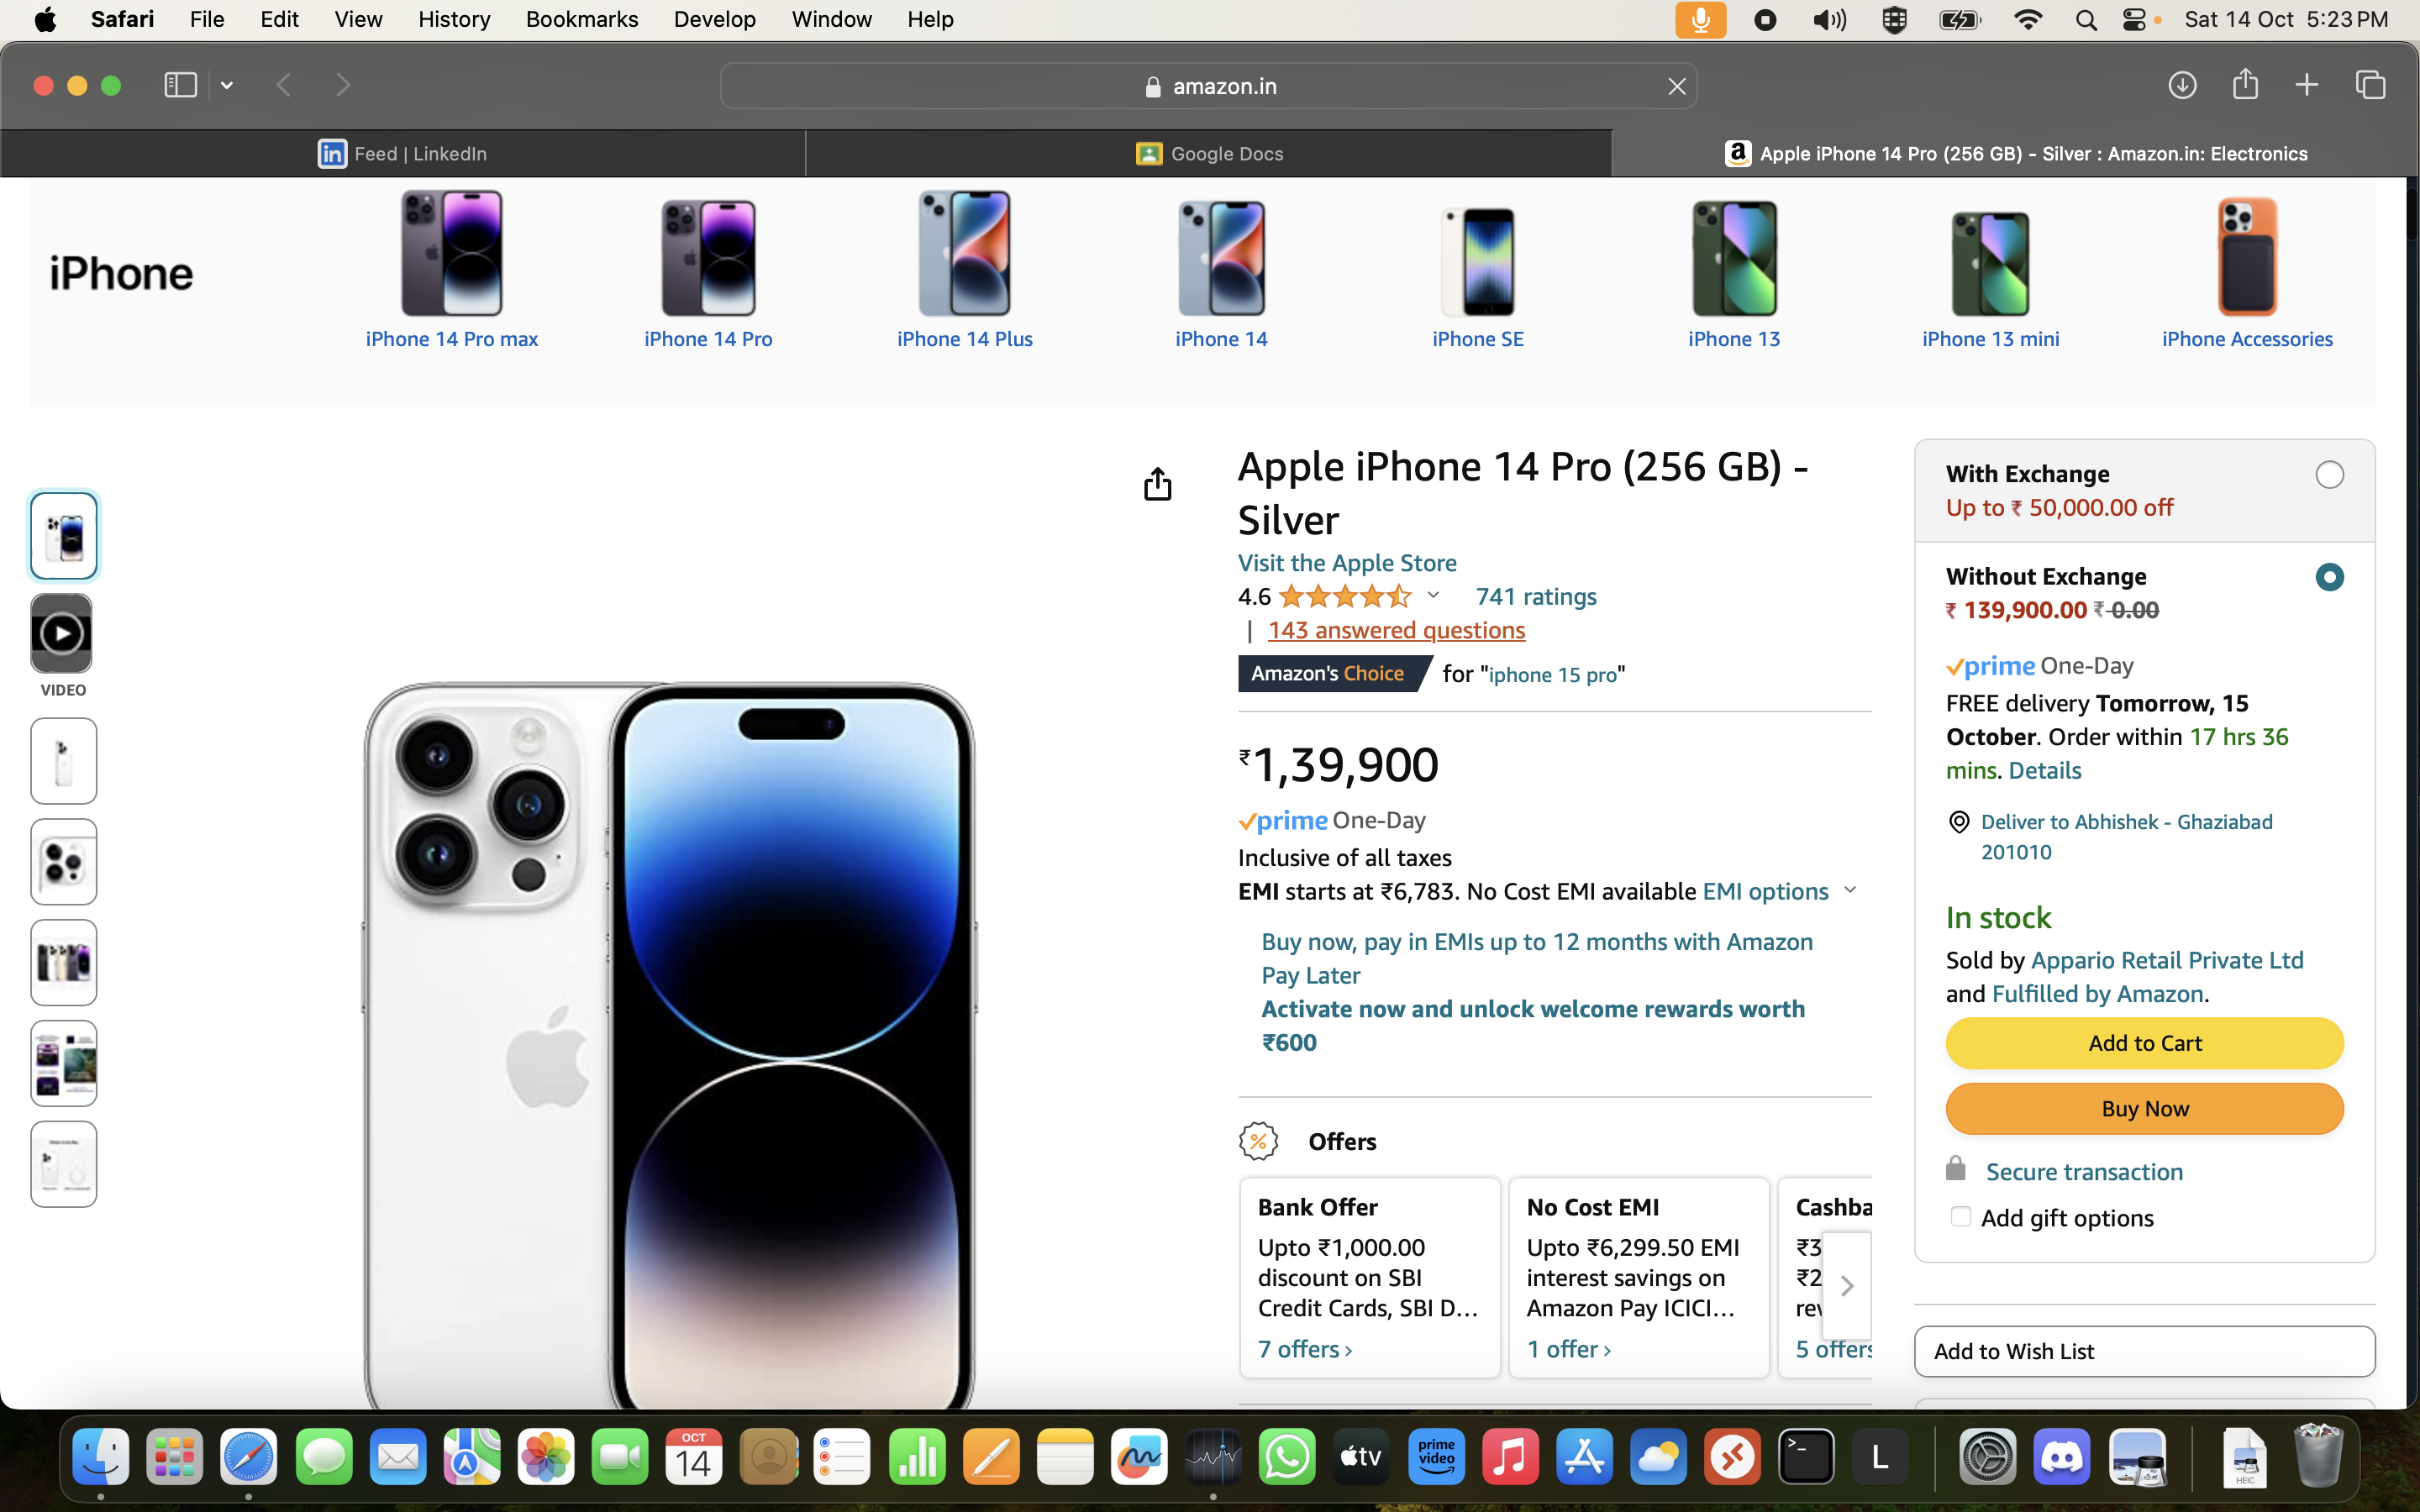Image: (341, 667, 1000, 1425), (395, 193, 512, 322), (655, 190, 765, 322), (1681, 190, 1784, 326), (1429, 193, 1528, 326), (915, 190, 1016, 314), (1948, 197, 2040, 322), (1174, 200, 1268, 322), (2207, 193, 2293, 322), (1763, 1420, 1850, 1491), (26, 1029, 105, 1106), (883, 1411, 955, 1493), (957, 1418, 1024, 1496), (1850, 1416, 1915, 1496), (1024, 1423, 1098, 1493), (1706, 1423, 1775, 1496), (1403, 1423, 1477, 1491), (141, 1421, 211, 1493), (1545, 1423, 1617, 1493), (64, 1421, 132, 1495), (655, 1416, 723, 1489), (808, 1418, 876, 1491), (1328, 1420, 1397, 1489), (1624, 1425, 1692, 1496), (512, 1416, 580, 1486), (28, 930, 99, 996), (439, 1421, 510, 1486), (587, 1423, 653, 1491), (2216, 1421, 2274, 1498), (1253, 1421, 1321, 1486), (2033, 1432, 2098, 1498), (1474, 1425, 1540, 1488), (37, 1139, 105, 1200), (220, 1428, 287, 1489), (293, 1425, 361, 1486), (2293, 1425, 2354, 1491), (733, 1428, 801, 1488), (1178, 1423, 1246, 1482), (366, 1432, 436, 1489), (2110, 1421, 2167, 1491), (1279, 584, 1418, 611), (1960, 1425, 2021, 1488), (38, 836, 92, 904), (1110, 1425, 1166, 1488), (45, 510, 87, 571), (2225, 64, 2272, 111), (40, 613, 87, 658), (2350, 63, 2397, 108), (45, 733, 80, 793), (1678, 0, 1727, 42), (1141, 462, 1180, 507), (1936, 7, 1991, 37), (23, 3, 70, 37), (2159, 68, 2202, 103), (1876, 5, 1923, 37), (2009, 2, 2047, 40), (2295, 64, 2328, 108), (1814, 5, 1854, 37), (2070, 2, 2105, 37), (1751, 5, 1784, 40), (2119, 5, 2153, 35)
Paragraph: (1232, 441, 1826, 545), (1934, 653, 2303, 791), (1256, 988, 1821, 1063), (1249, 925, 1826, 988), (1939, 810, 2293, 869), (1249, 1232, 1483, 1320), (1937, 949, 2321, 1003), (1523, 1235, 1756, 1322), (1937, 456, 2181, 530), (1930, 559, 2171, 631), (1228, 878, 1843, 906), (1761, 145, 2326, 167), (1232, 739, 1439, 796), (1260, 617, 1538, 650), (1218, 840, 1474, 874), (1977, 1155, 2204, 1191), (1228, 547, 1476, 580), (1939, 880, 2072, 941), (40, 249, 209, 296), (1228, 801, 1436, 840), (1237, 653, 1420, 695), (1970, 1198, 2171, 1235), (2178, 0, 2397, 33), (1430, 658, 1636, 692), (359, 322, 545, 357), (2080, 1016, 2209, 1064), (1930, 1334, 2113, 1367), (1244, 1178, 1382, 1221), (1916, 322, 2070, 357), (2099, 1087, 2206, 1136), (2160, 326, 2338, 354), (636, 322, 782, 355), (355, 138, 502, 171), (1469, 582, 1603, 617), (1253, 1327, 1373, 1364), (901, 326, 1042, 355), (1171, 138, 1291, 171), (1528, 1191, 1685, 1216), (1530, 1326, 1615, 1369), (1296, 1120, 1387, 1155), (516, 7, 639, 31), (1423, 324, 1531, 352), (1171, 324, 1275, 352), (674, 7, 765, 35), (1687, 329, 1786, 354), (85, 10, 169, 37), (793, 7, 876, 31), (1220, 578, 1275, 613), (1173, 77, 1284, 94), (335, 3, 392, 37), (247, 9, 312, 33), (422, 10, 502, 30), (190, 9, 233, 35), (904, 7, 963, 24)
